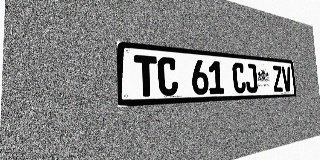1: (208, 60, 224, 94)
6: (191, 59, 209, 95)
C: (157, 56, 178, 96), (232, 62, 246, 93)
J: (245, 63, 258, 93)
T: (134, 55, 158, 97)
V: (281, 66, 292, 92)
Z: (272, 65, 283, 92)
